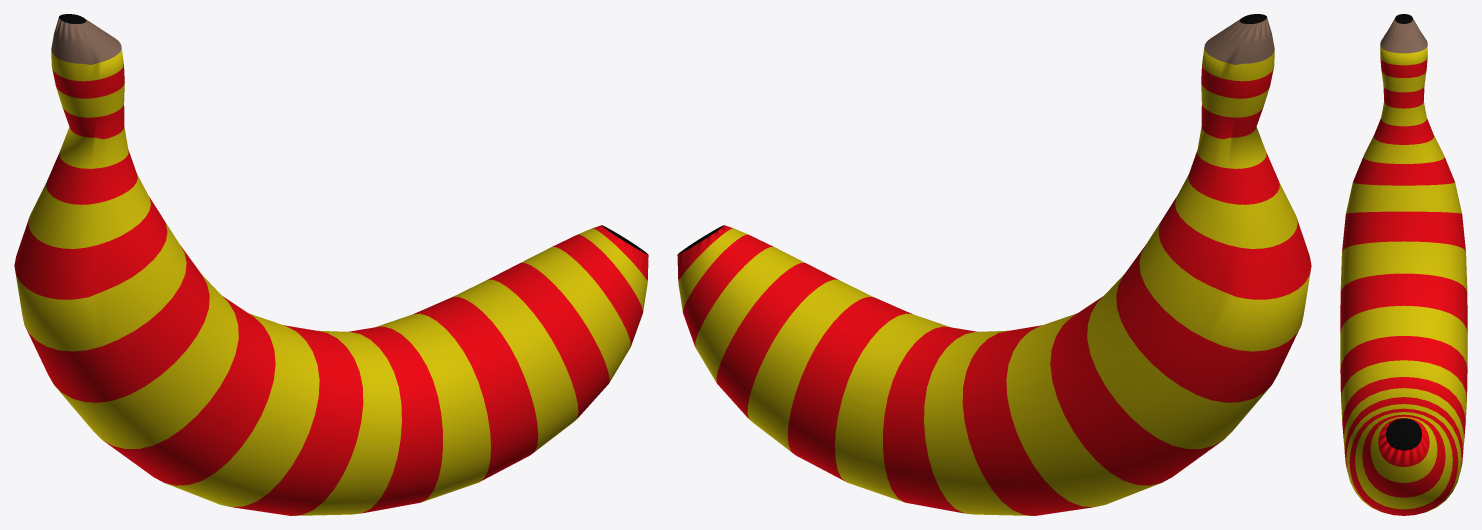
File: Fruit_Frenzy_Banana.fbx
3 renders of one model, left to right at view 1: azimuth 30°, elevation 25°; view 2: azimuth 150°, elevation 25°; view 3: azimuth 270°, elevation 25°, orthographic. The views are drawn at different scales.
Parts seen in each view (by area): view 1: Frenzy_Banana; view 2: Frenzy_Banana; view 3: Frenzy_Banana.
Boxes of the visible parts, left/top/right/bottom form: Frenzy_Banana: left=14, top=14, right=648, bottom=515; Frenzy_Banana: left=677, top=14, right=1311, bottom=515; Frenzy_Banana: left=1340, top=14, right=1467, bottom=515.
Size of the model in its own units: 263 by 227 by 70.72.
